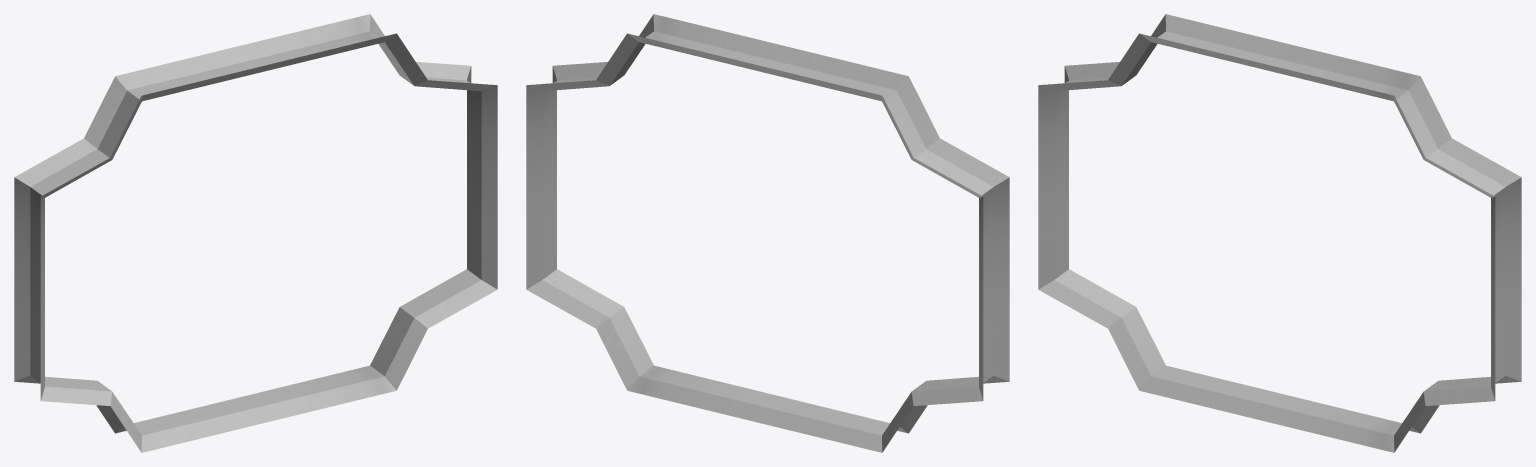
Rendered from corridorConnector.FBX.
3 renders of one model, left to right at view 1: azimuth 30°, elevation 25°; view 2: azimuth 150°, elevation 25°; view 3: azimuth 330°, elevation 25°, orthographic.
Visible parts, largest first — view 1: connector; view 2: connector; view 3: connector.
Boxes of the visible parts, x1,y1,x2,y2 form: connector: (14, 14, 497, 452); connector: (526, 14, 1009, 452); connector: (1038, 14, 1521, 452).
Size of the model in its own units: 14.4 by 1.45 by 10.76.
